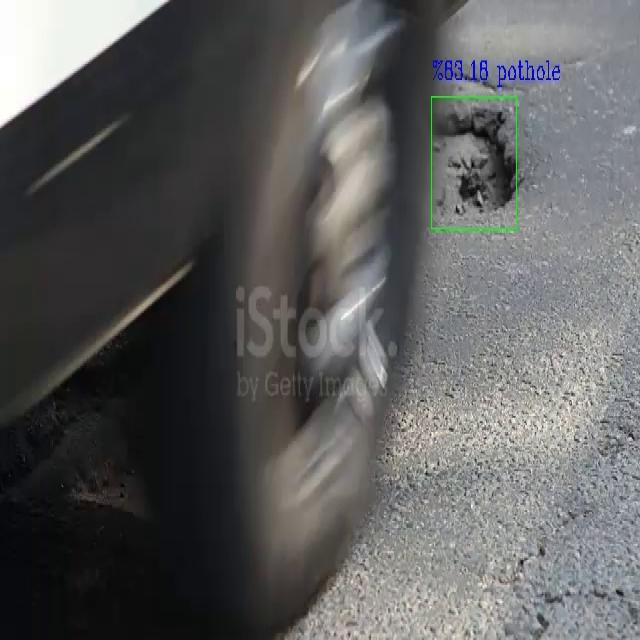pothole: (434, 97, 514, 226)
